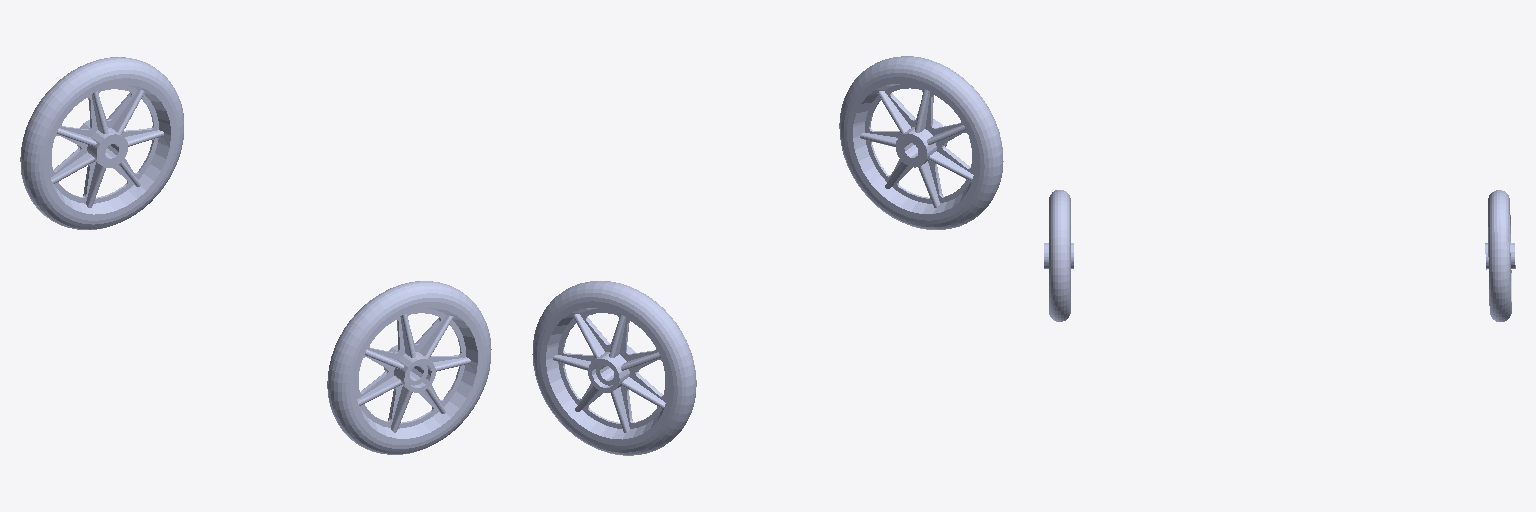
robot.urdf — delivery_robot:
<?xml version="1.0" encoding="utf-8"?>
<!-- This URDF was automatically created by SolidWorks to URDF Exporter! Originally created by [author] ([email redacted]) 
     Commit Version: 1.6.0-4-g7f85cfe  Build Version: 1.6.7995.38578
     For more information, please see http://wiki.ros.org/sw_urdf_exporter -->
<robot
  name="delivery_robot">
  <link
    name="base_link">
    <inertial>
      <origin
        xyz="-1.27106972964244E-06 -9.59828024615475E-07 0.0811861255278657"
        rpy="0 0 0" />
      <mass
        value="3.92914679746778" />
      <inertia
        ixx="0.0709913559982132"
        ixy="-4.66341141992368E-09"
        ixz="1.28848003734999E-07"
        iyy="0.0698537239159662"
        iyz="6.33255474854818E-08"
        izz="0.138972444682359" />
    </inertial>
    <visual>
      <origin
        xyz="0 0 0"
        rpy="0 0 0" />
      <geometry>
        <mesh
          filename="package://delivery_robot/meshes/base_link.STL" />
      </geometry>
      <material
        name="">
        <color
          rgba="0.792156862745098 0.819607843137255 0.933333333333333 1" />
      </material>
    </visual>
    <collision>
      <origin
        xyz="0 0 0"
        rpy="0 0 0" />
      <geometry>
        <mesh
          filename="package://delivery_robot/meshes/base_link.STL" />
      </geometry>
    </collision>
  </link>
  <link
    name="right_wheel">
    <inertial>
      <origin
        xyz="2.40836024367927E-16 -4.16333634234434E-17 -0.0178996642599887"
        rpy="0 0 0" />
      <mass
        value="0.158485151112061" />
      <inertia
        ixx="0.000224621670813498"
        ixy="1.8128826346836E-19"
        ixz="3.69302677105076E-19"
        iyy="0.000224621670813498"
        iyz="6.9524792075622E-21"
        izz="0.000438658164269869" />
    </inertial>
    <visual>
      <origin
        xyz="0 0 0"
        rpy="0 0 0" />
      <geometry>
        <mesh
          filename="package://delivery_robot/meshes/right_wheel.STL" />
      </geometry>
      <material
        name="">
        <color
          rgba="0.792156862745098 0.819607843137255 0.933333333333333 1" />
      </material>
    </visual>
    <collision>
      <origin
        xyz="0 0 0"
        rpy="0 0 0" />
      <geometry>
        <mesh
          filename="package://delivery_robot/meshes/right_wheel.STL" />
      </geometry>
    </collision>
  </link>
  <joint
    name="right_wheel_joint"
    type="continuous">
    <origin
      xyz="0 -0.239998 0.03925"
      rpy="1.5707963267949 0 0" />
    <parent
      link="base_link" />
    <child
      link="right_wheel" />
    <axis
      xyz="0 0 1" />
  </joint>
  <link
    name="left_wheel">
    <inertial>
      <origin
        xyz="-5.34498900112382E-17 -5.55111512312578E-17 -0.0178996642599887"
        rpy="0 0 0" />
      <mass
        value="0.158485151112061" />
      <inertia
        ixx="0.000224621670813498"
        ixy="-1.83517773713129E-19"
        ixz="7.43982371881285E-19"
        iyy="0.000224621670813499"
        iyz="8.18535951933032E-19"
        izz="0.00043865816426987" />
    </inertial>
    <visual>
      <origin
        xyz="0 0 0"
        rpy="0 0 0" />
      <geometry>
        <mesh
          filename="package://delivery_robot/meshes/left_wheel.STL" />
      </geometry>
      <material
        name="">
        <color
          rgba="0.792156862745098 0.819607843137255 0.933333333333333 1" />
      </material>
    </visual>
    <collision>
      <origin
        xyz="0 0 0"
        rpy="0 0 0" />
      <geometry>
        <mesh
          filename="package://delivery_robot/meshes/left_wheel.STL" />
      </geometry>
    </collision>
  </link>
  <joint
    name="left_wheel_joint"
    type="continuous">
    <origin
      xyz="0 0.239998 0.0392500000000001"
      rpy="1.5707963267949 0 3.14159265358979" />
    <parent
      link="base_link" />
    <child
      link="left_wheel" />
    <axis
      xyz="0 0 -1" />
  </joint>

    <gazebo>
    <plugin name="gazebo_ros_control" filename="libgazebo_ros_control.so">
    </plugin>
  </gazebo>
  <link name="laser">
    <visual>
      <origin xyz="0 0 0.0" rpy="0 0 0"/>
      <geometry>
        <mesh filename="package://delivery_robot/meshes/lds.stl" scale="0.001 0.001 0.001"/>
      </geometry>
    </visual>

    <collision>
      <origin xyz="0.015 0 -0.0065" rpy="0 0 0"/>
      <geometry>
        <cylinder length="0.0315" radius="0.055"/>
      </geometry>
    </collision>

    <inertial>
      <mass value="0.114" />
      <origin xyz="0 0 0" />
      <inertia ixx="0.001" ixy="0.0" ixz="0.0"
               iyy="0.001" iyz="0.0"
               izz="0.001" />
    </inertial>
  </link>
  <joint name="laser_joint" type="fixed">
    <axis xyz="0 1 0" />
    <origin xyz="0.0 0 0.244" rpy="0 0 0" />
    <parent link="base_link" />
    <child link="laser" />
  </joint>

  <gazebo reference="laser">
    <material>Gazebo/FlatBlack</material>
    <sensor type="ray" name="lds_lfcd_sensor">
      <pose>0 0 0 0 0 0</pose>
      <visualize>true</visualize>
      <update_rate>5</update_rate>
      <ray>
        <scan>
          <horizontal>
            <samples>360</samples>
            <resolution>1</resolution>
            <min_angle>0.0</min_angle>
            <max_angle>6.28319</max_angle>
          </horizontal>
        </scan>
        <range>
          <min>0.120</min>
          <max>3.5</max>
          <resolution>0.015</resolution>
        </range>
        <noise>
          <type>gaussian</type>
          <mean>0.0</mean>
          <stddev>0.01</stddev>
        </noise>
      </ray>
      <plugin name="gazebo_ros_lds_lfcd_controller" filename="libgazebo_ros_laser.so">
        <topicName>base_scan</topicName>
        <frameName>laser</frameName>
      </plugin>
    </sensor>
  </gazebo>
  
  <transmission name="tran1">
    <type>transmission_interface/SimpleTransmission</type>
    <joint name="right_wheel_joint">
      <hardwareInterface>hardware_interface/VelocityJointInterface</hardwareInterface>
    </joint>
    <actuator name="motor1">
      <hardwareInterface>hardware_interface/VelocityJointInterface</hardwareInterface>
      <mechanicalReduction>1</mechanicalReduction>
    </actuator>
  </transmission>

  <transmission name="tran2">
    <type>transmission_interface/SimpleTransmission</type>
    <joint name="left_wheel_joint">
      <hardwareInterface>hardware_interface/VelocityJointInterface</hardwareInterface>
    </joint>
    <actuator name="motor2">
      <hardwareInterface>hardware_interface/VelocityJointInterface</hardwareInterface>
      <mechanicalReduction>1</mechanicalReduction>
    </actuator>
  </transmission>

</robot>

--- Facts derived from the render (not from the file) ---
The picture shows the robot from 3 angles, left to right: view 1: azimuth 30°, elevation 25°; view 2: azimuth 150°, elevation 25°; view 3: azimuth 270°, elevation 25°; orthographic projection.
Model delivery_robot with 4 links and 3 joints (2 continuous, 1 fixed), rooted at base_link, posed every joint at zero.
Links seen in each view (by area): view 1: right_wheel, left_wheel; view 2: left_wheel, right_wheel; view 3: left_wheel, right_wheel.
Boxes of the visible links, <box> form: right_wheel: <box>327,281,491,454</box>; left_wheel: <box>20,57,183,229</box>; left_wheel: <box>532,281,696,455</box>; right_wheel: <box>839,56,1003,229</box>; left_wheel: <box>1485,190,1515,321</box>; right_wheel: <box>1044,190,1073,321</box>.
Bounding box of the posed robot: 0.1339 × 0.4762 × 0.1342 m (x, y, z).
Meshes: 4 distinct files referenced, 2 mesh visuals loaded (2 binary STL); not drawn: 2 (reference not matched to a file when rendering).
